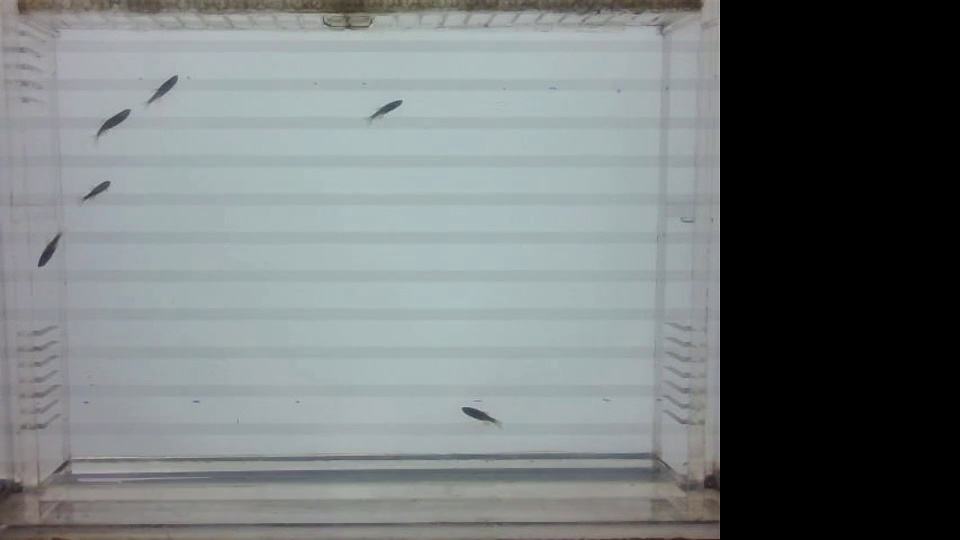fish: (68, 168, 120, 215), (25, 228, 69, 283), (136, 68, 181, 108), (456, 398, 504, 433), (355, 97, 411, 125), (85, 108, 132, 140)
